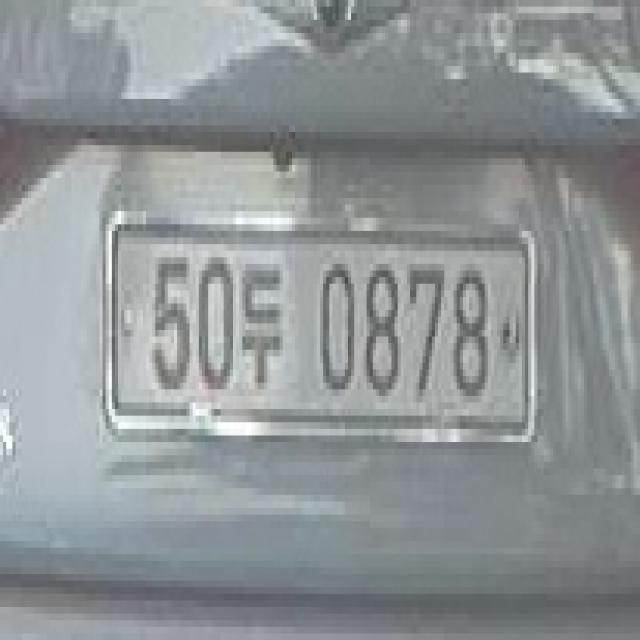0: (313, 252, 358, 404), (197, 240, 237, 406)
5: (142, 244, 194, 396)
7: (407, 252, 448, 412)
8: (360, 250, 404, 406), (452, 257, 491, 411)
du: (240, 253, 286, 403)
license_plate: (91, 189, 548, 467)
